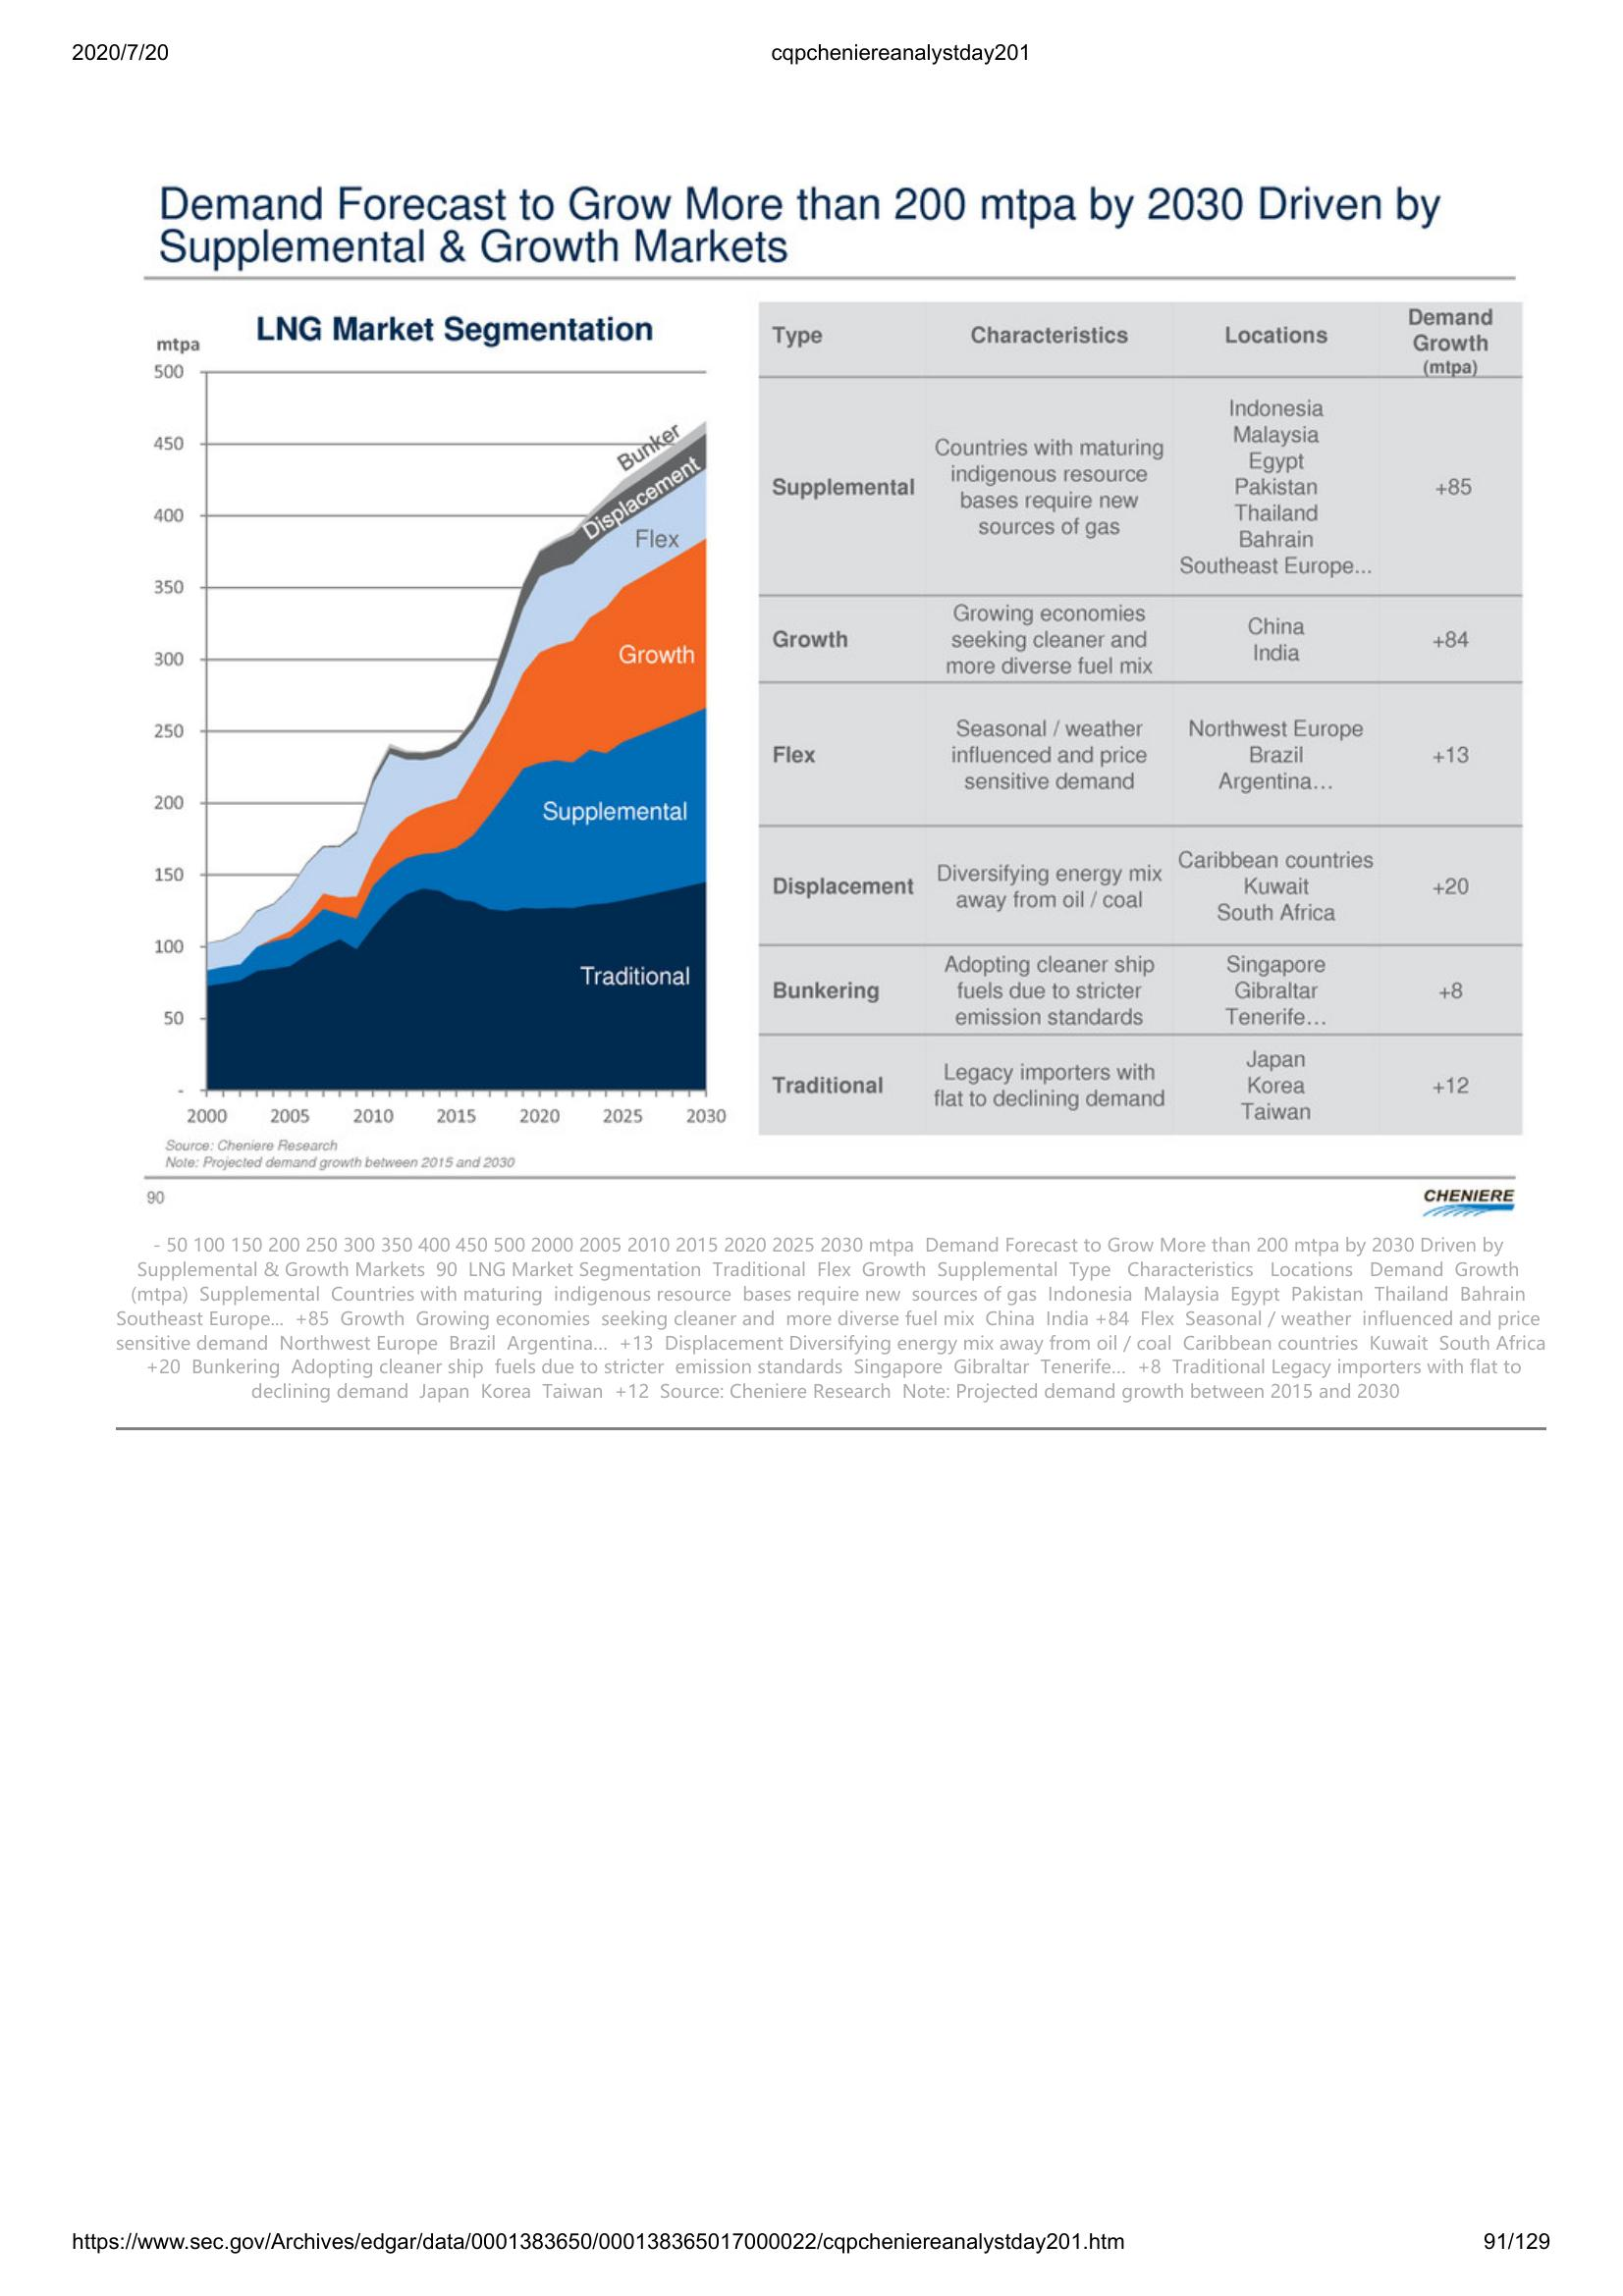table: (754, 297, 1535, 1143)
